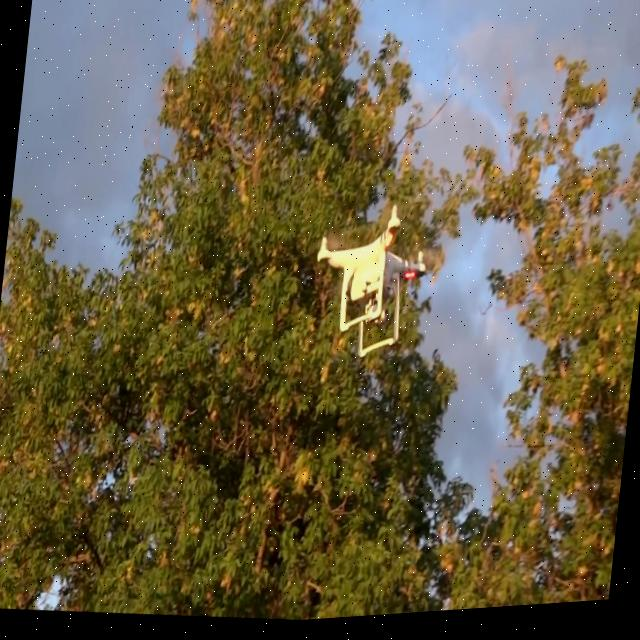drone: (302, 194, 435, 375)
